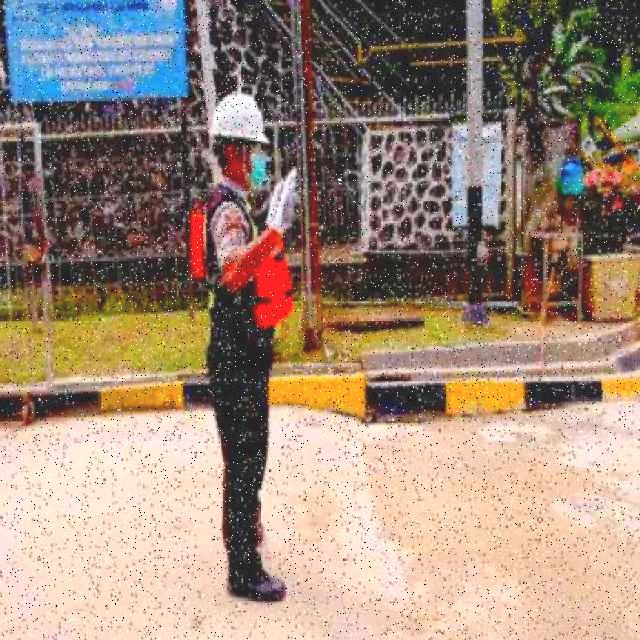Boots: (225, 554, 288, 606)
Gloves: (272, 170, 300, 236)
Helmet: (208, 90, 276, 148)
Mask: (187, 209, 298, 328)
